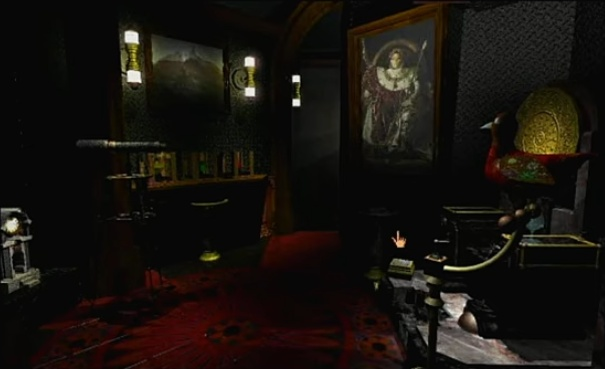Pointer: (387, 226, 411, 250)
